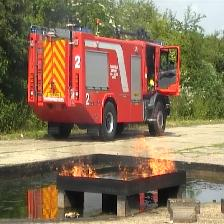fire: (119, 132, 178, 181), (58, 162, 100, 179)
